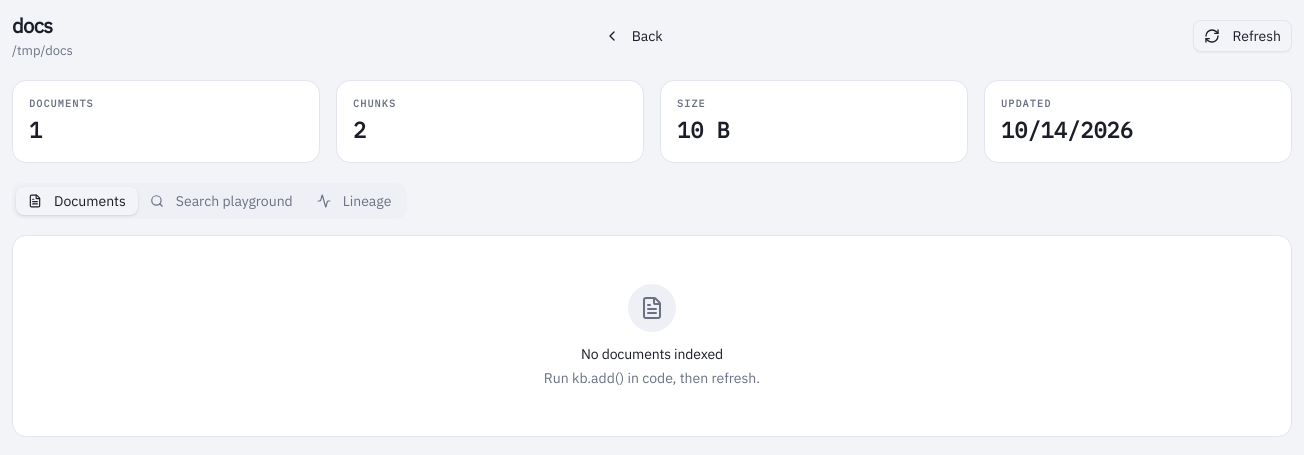
Scenario: KbDetailPage search › shows the server's 400 for a type the KB cannot serve
Press the mouse on the tab "Search playground" at (221, 201), box [138,187,305,215]
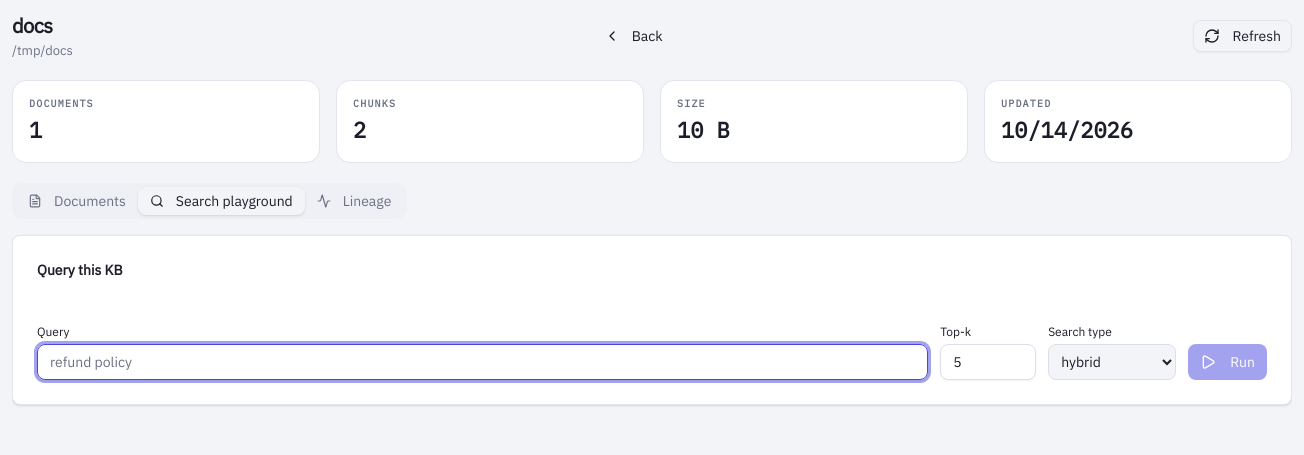
Expected: the field labelled "Query" is shown
Type "refund" into the field labelled "Query" at (483, 362), box [37,344,928,380]
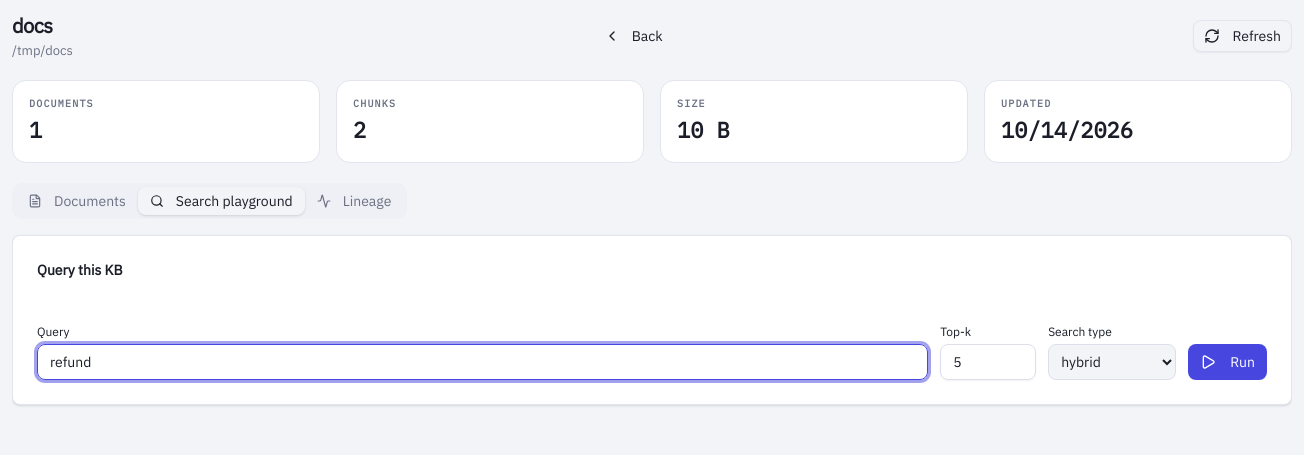
Click the button "Run" at (1228, 362), box [1188,344,1267,380]
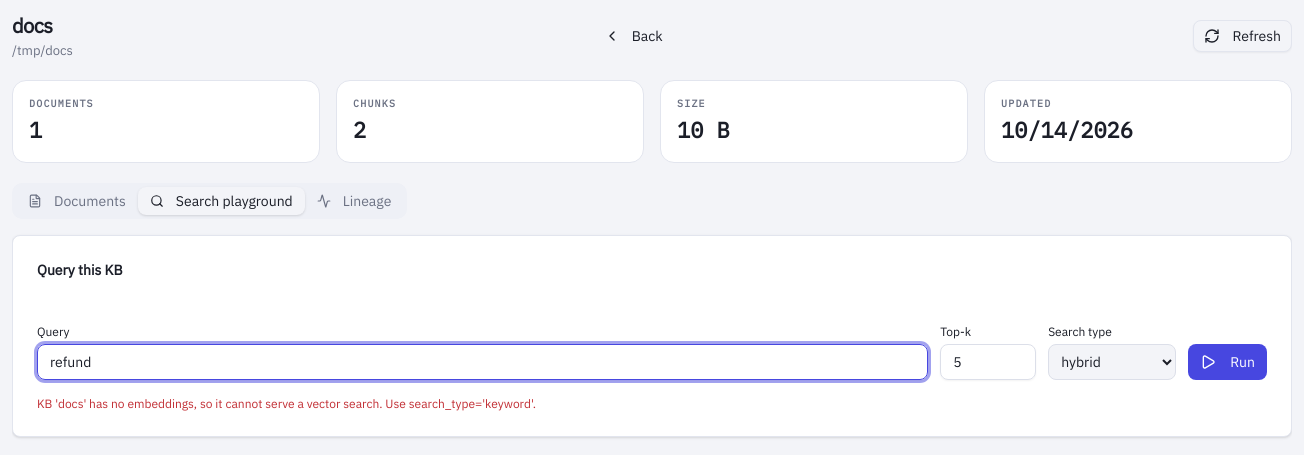
Expected: the message shows "has no embeddings", [37,396,536,411]
